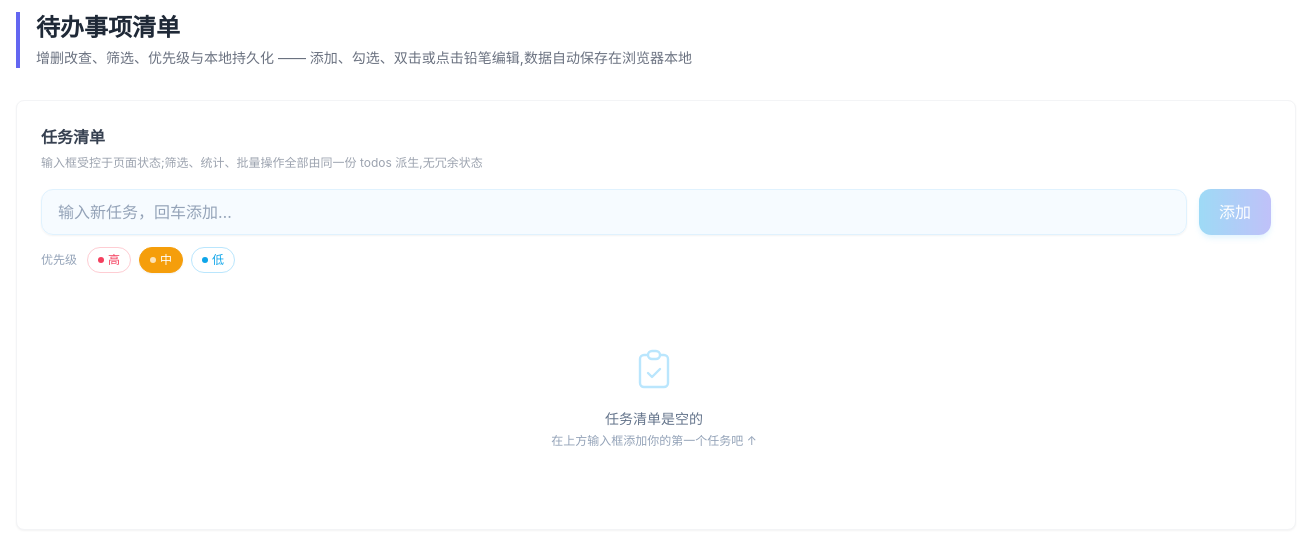
Test: Todo 页面 — 筛选 › 点击"已完成"tab，未完成任务不可见
Type "未完成任务" into the field with placeholder "输入新任务，回车添加…". click: (614, 212)
box: [41,188,1187,234]
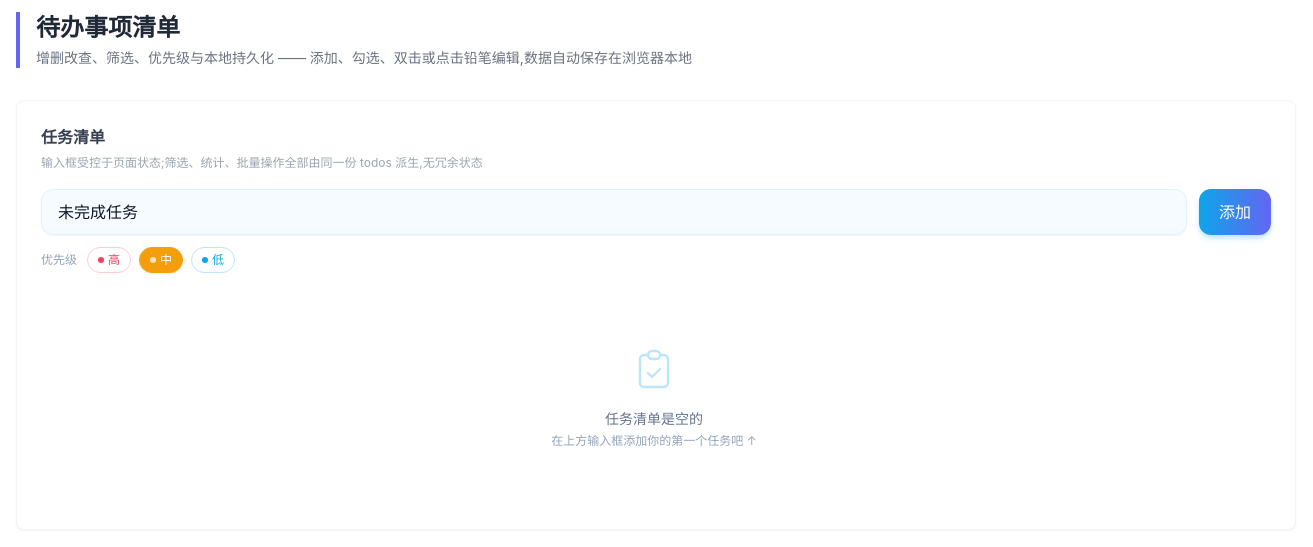
Click the button "添加". click: (1235, 212)
box: [1199,188,1271,234]
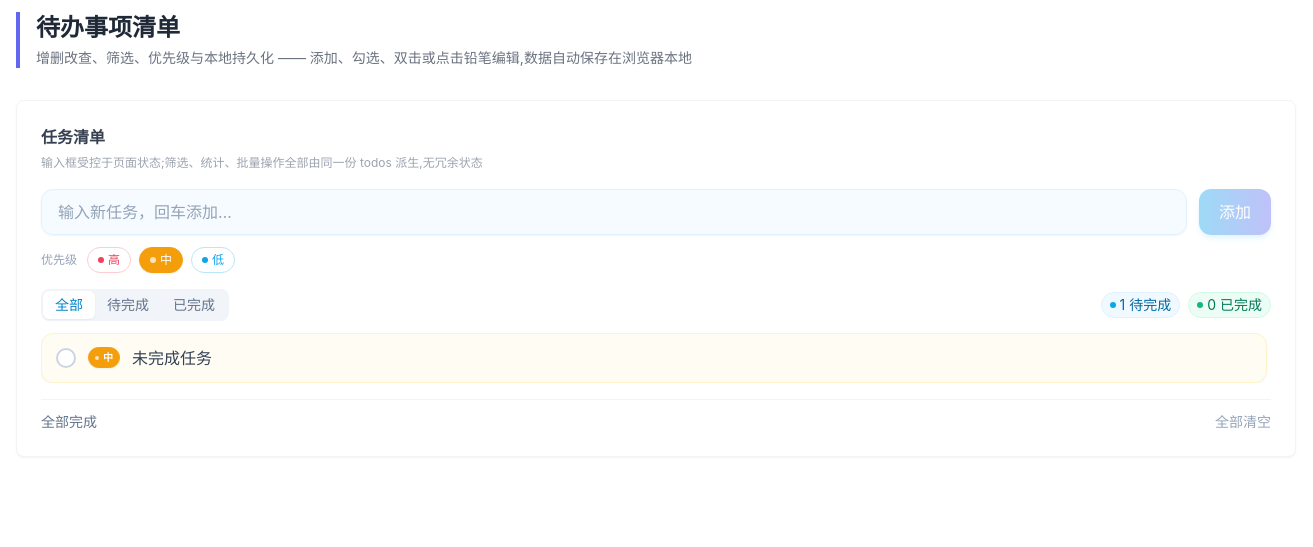
Type "已完成任务" into the field with placeholder "输入新任务，回车添加…". click: (614, 212)
box: [41,188,1187,234]
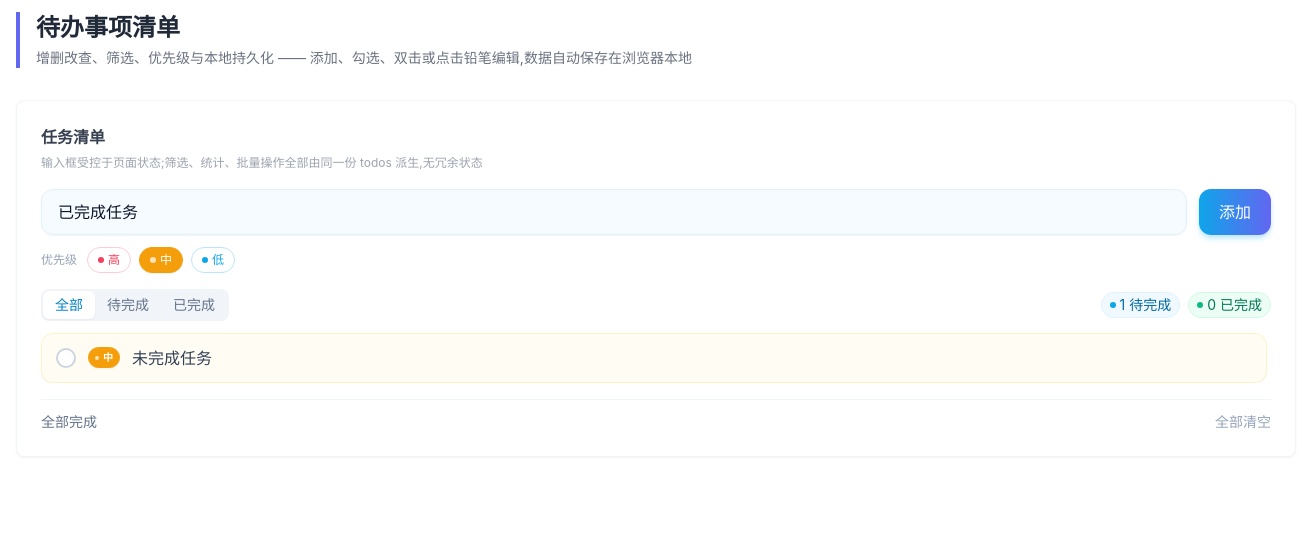
Click the button "添加". click: (1235, 212)
box: [1199,188,1271,234]
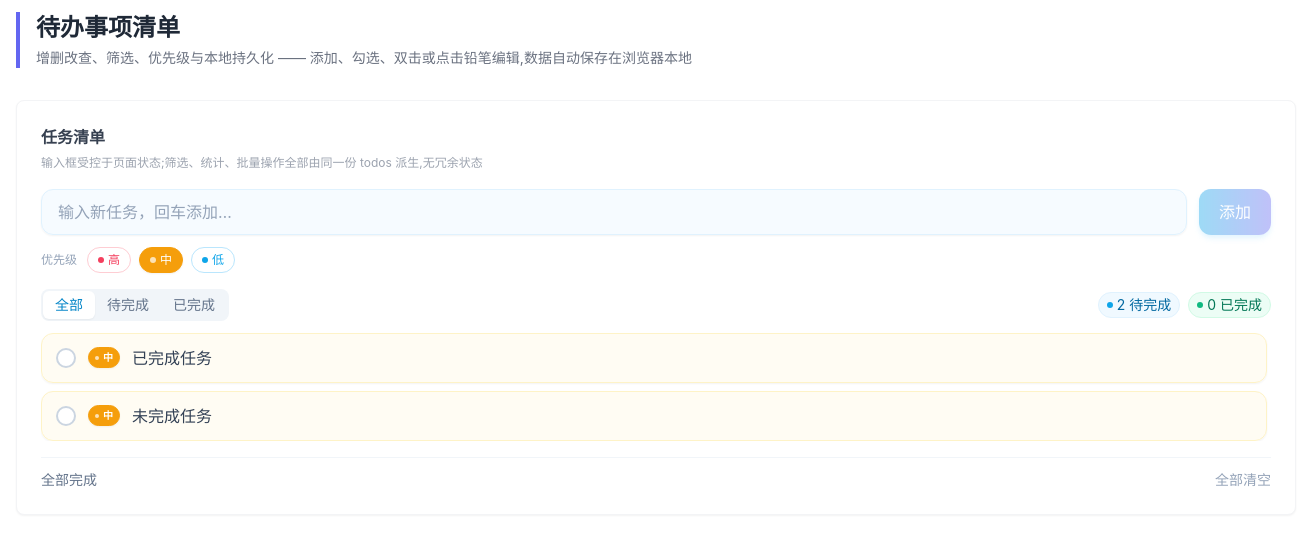
Click the button named "标记为已完成" in the row of "已完成任务". click: (66, 358)
box: [56,348,76,368]
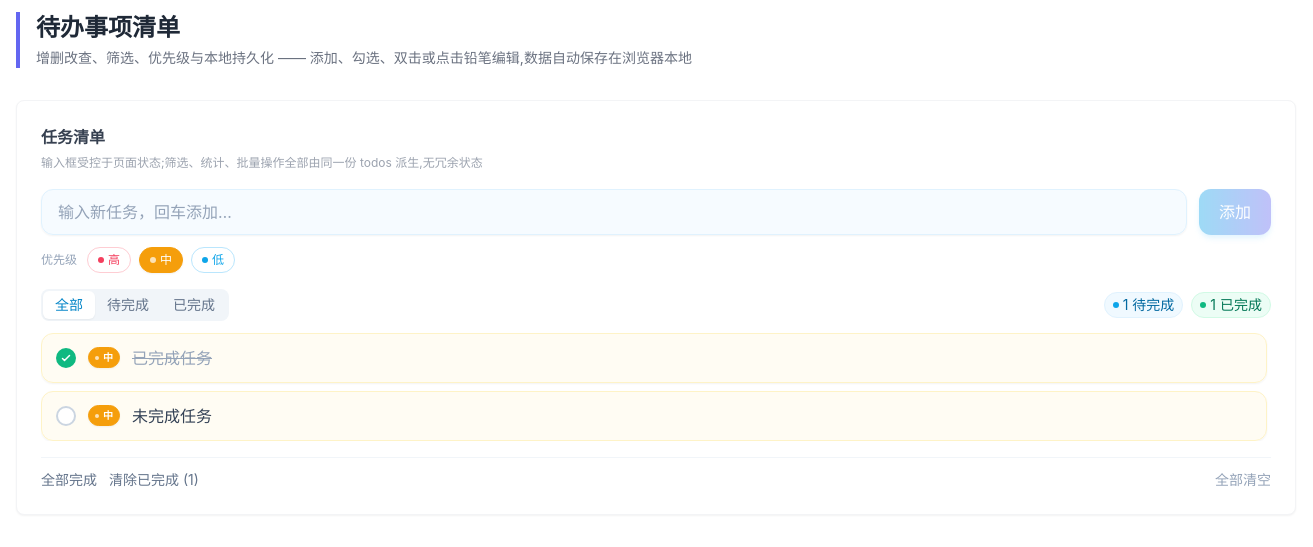
Click the button "已完成". click: (194, 304)
box: [161,290,227,318]
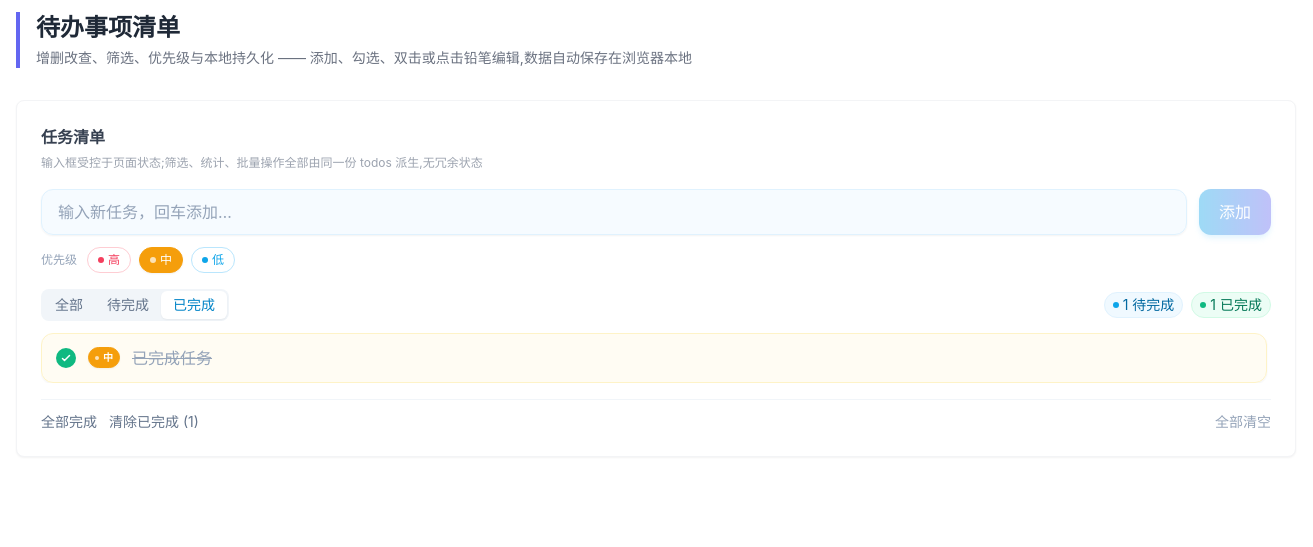
Expected: the text "已完成任务" is shown, [132,348,212,368]
Expected: the text "未完成任务" is gone
